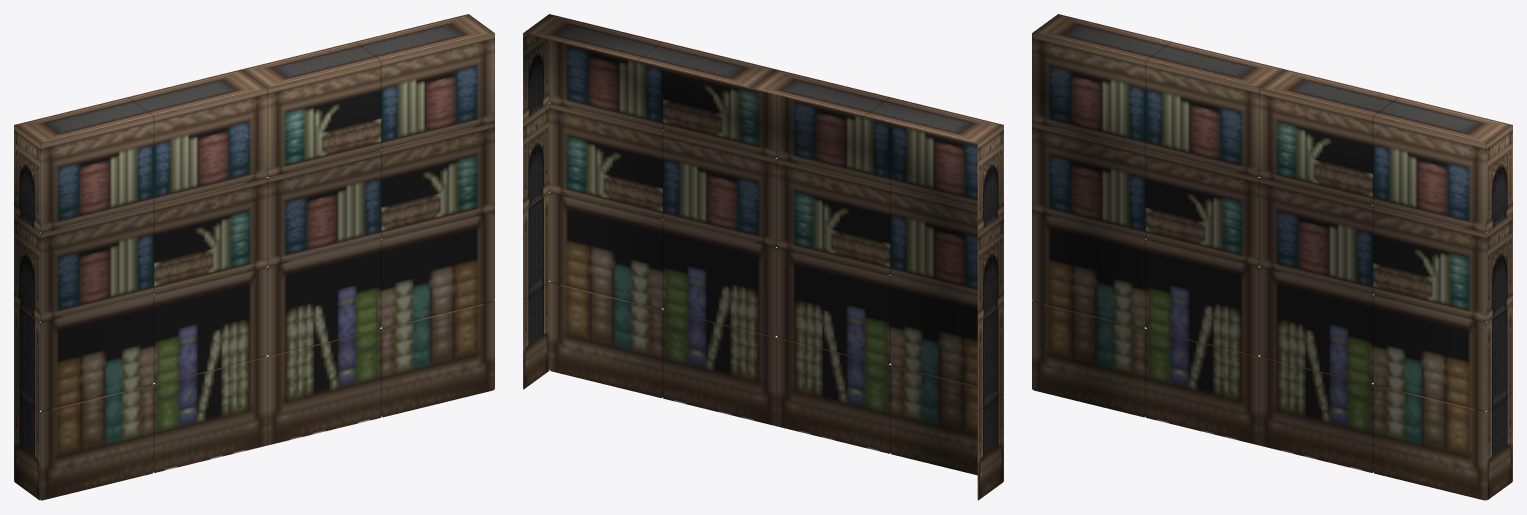
3 views of the same model, side by side, from view 1: azimuth 30°, elevation 25°; view 2: azimuth 150°, elevation 25°; view 3: azimuth 330°, elevation 25° (orthographic).
Visible parts, largest first — view 1: T1L8M001_24; view 2: T1L8M001_24; view 3: T1L8M001_24.
Boxes of the visible parts, x1=… form: T1L8M001_24: x1=14, y1=14, x2=494, y2=500; T1L8M001_24: x1=523, y1=14, x2=1003, y2=500; T1L8M001_24: x1=1032, y1=14, x2=1512, y2=500.
Bounding box in the file's own units: 4 × 3 × 0.3994.
